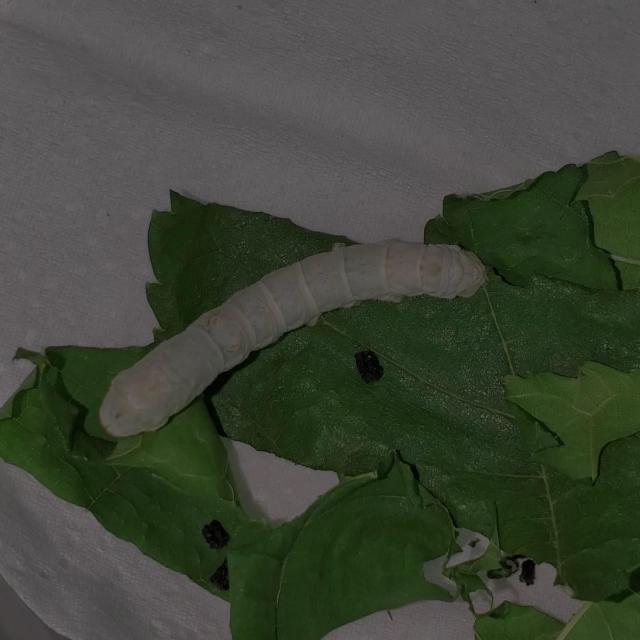Healthy: (94, 226, 492, 444)
